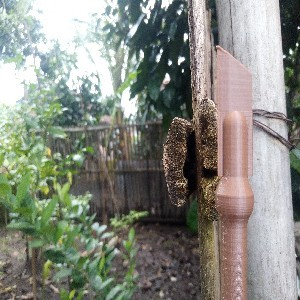cutter: (214, 45, 255, 300)
